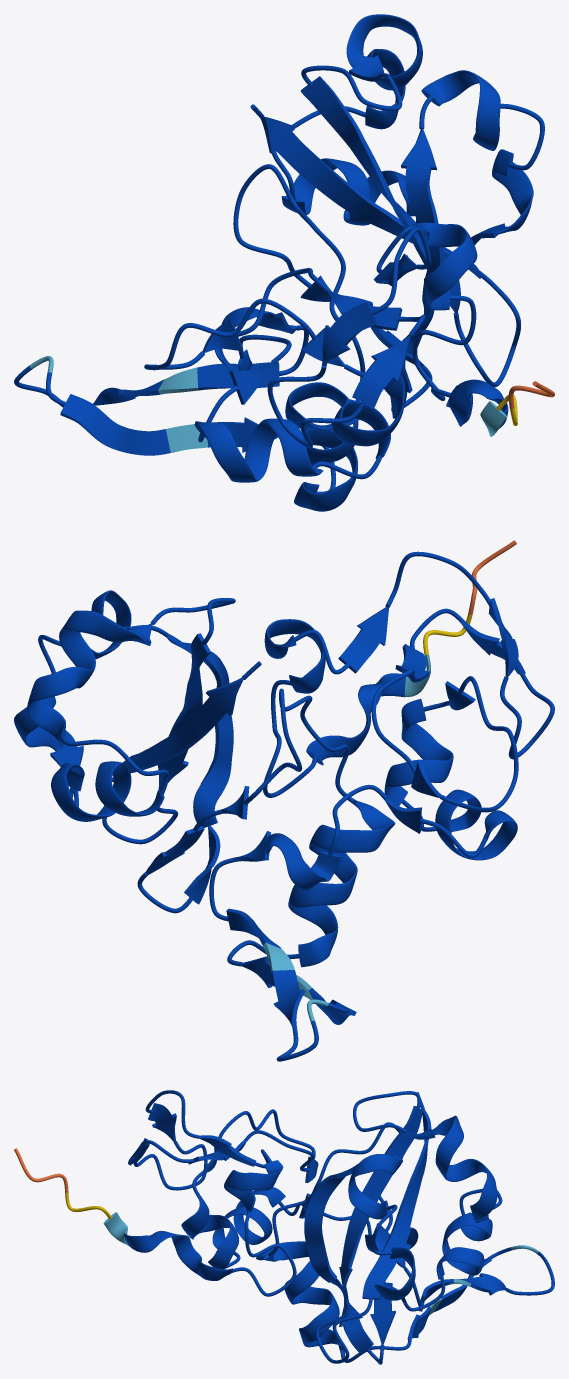
Rendered from testProtein.glb.
The picture shows the model from 3 angles, top to bottom: view 1: azimuth 30°, elevation 25°; view 2: azimuth 150°, elevation 25°; view 3: azimuth 270°, elevation 25°; orthographic projection. The views are drawn at different scales.
Bounding box in the file's own units: 42.95 × 36.06 × 61.24.
